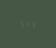five: (18, 19, 23, 27), (31, 20, 36, 28)
four: (25, 19, 30, 28)
